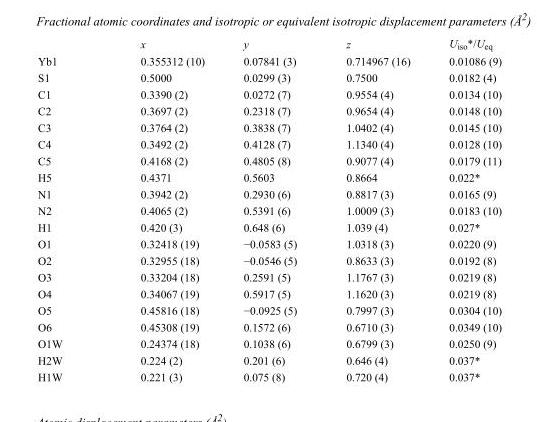table: (37, 36, 501, 382)
table column: (100, 36, 223, 382), (320, 36, 428, 382), (223, 36, 320, 382), (428, 36, 501, 382), (37, 36, 100, 382)
table column header: (37, 36, 501, 52)
table row: (37, 68, 501, 85), (37, 85, 501, 102), (37, 118, 501, 135), (37, 135, 501, 152), (37, 168, 501, 185), (37, 201, 501, 218), (37, 218, 501, 235), (37, 251, 501, 268), (37, 268, 501, 285), (37, 301, 501, 318), (37, 334, 501, 351), (37, 351, 501, 368), (37, 36, 501, 52), (37, 52, 501, 68), (37, 102, 501, 118), (37, 152, 501, 168), (37, 185, 501, 201), (37, 235, 501, 251), (37, 285, 501, 301), (37, 318, 501, 334), (37, 368, 501, 382)
